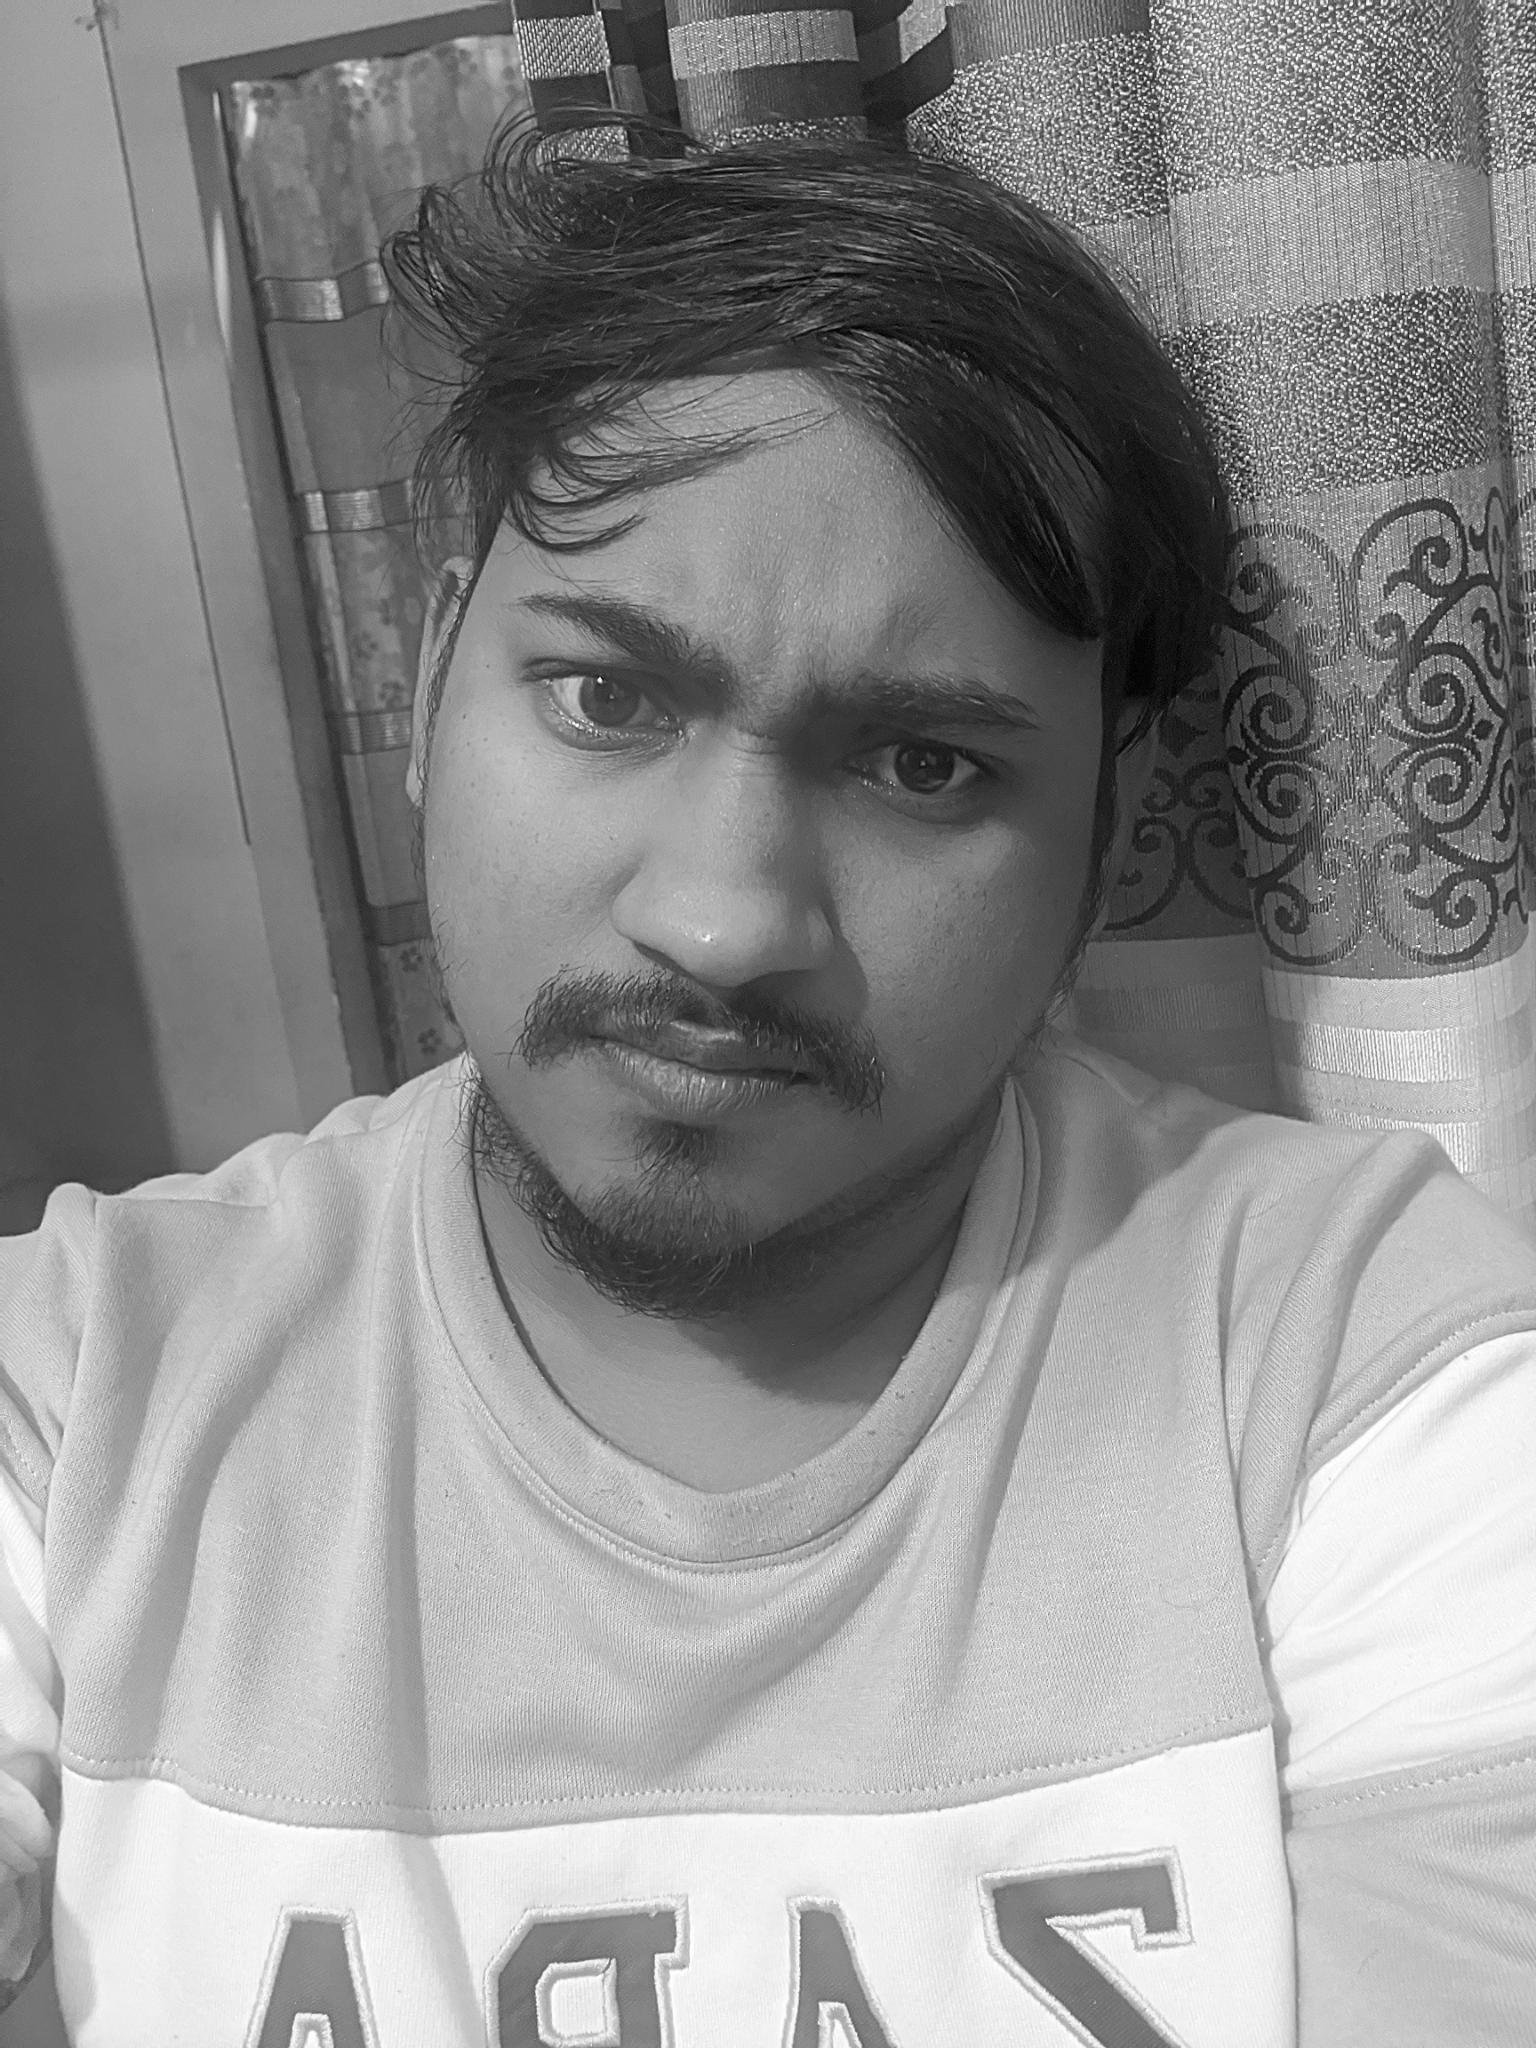Angry: (455, 508, 1097, 1287)
